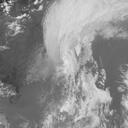cyclone: (42, 18, 93, 85)
